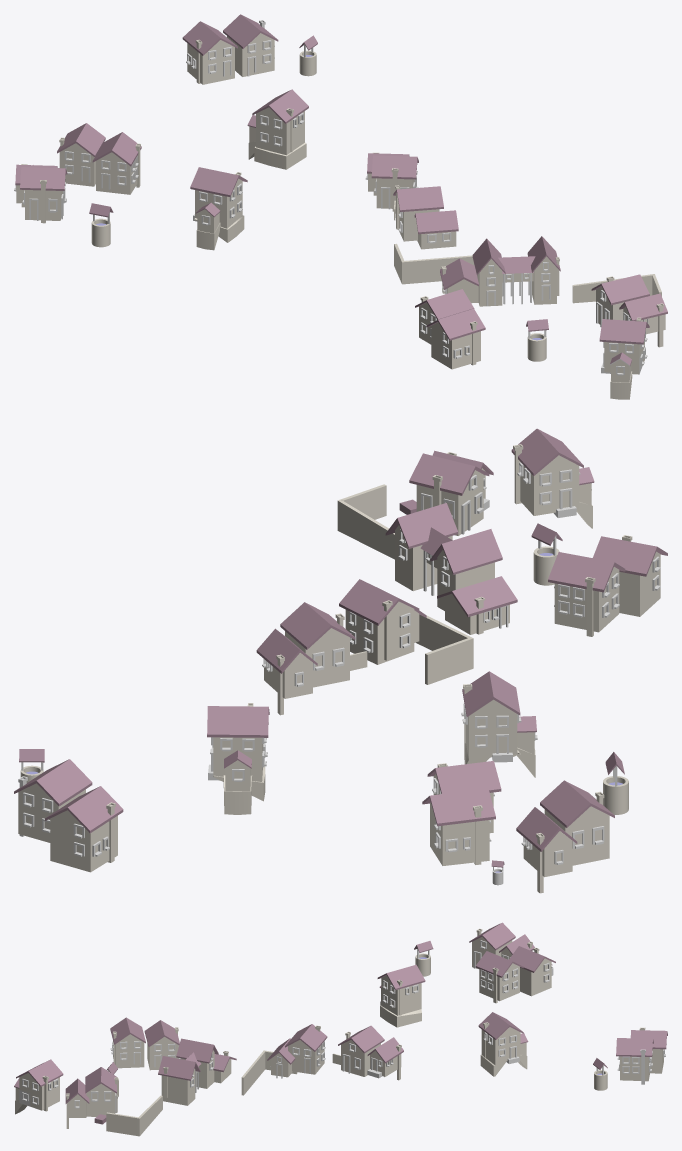
Rendered from M_Village.fbx.
The picture shows the model from 3 angles, top to bottom: view 1: azimuth 30°, elevation 25°; view 2: azimuth 150°, elevation 25°; view 3: azimuth 270°, elevation 25°; orthographic projection. The views are drawn at different scales.
Parts seen in each view (by area): view 1: M_Village; view 2: M_Village; view 3: M_Village.
Part boxes in pixels (x1,y1,x2,y2): M_Village: (14, 14, 667, 399); M_Village: (14, 428, 667, 893); M_Village: (14, 922, 667, 1136).
Bounding box in the file's own units: 1759 × 386 × 2940.
